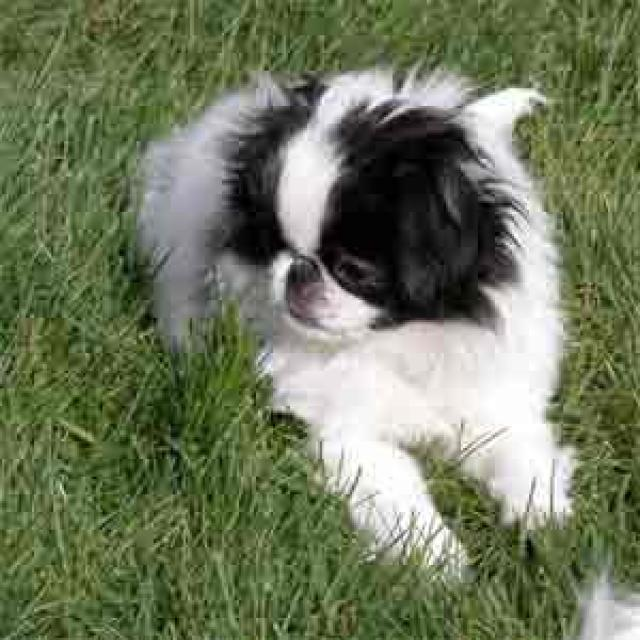husky: (136, 66, 572, 574)
